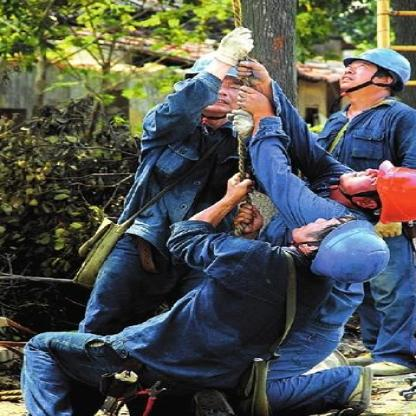helmet: (278, 217, 395, 283), (169, 47, 272, 119), (325, 167, 416, 223), (332, 46, 416, 101)
